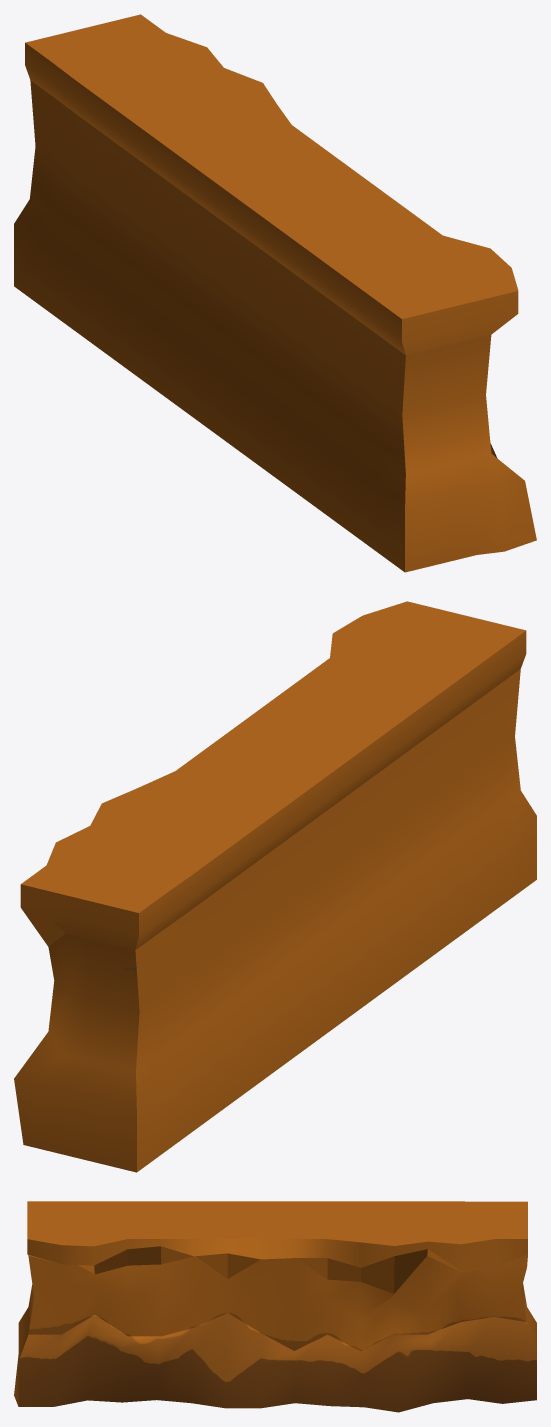
The model's file is Asset_Wall1_Mesh.fbx.
3 renders of one model, top to bottom at view 1: azimuth 30°, elevation 25°; view 2: azimuth 150°, elevation 25°; view 3: azimuth 270°, elevation 25°, orthographic. The views are drawn at different scales.
Visible parts, largest first — view 1: Assset_Wall1_Mesh; view 2: Assset_Wall1_Mesh; view 3: Assset_Wall1_Mesh.
Part boxes in pixels (x1,y1,x2,y2): Assset_Wall1_Mesh: (14,14,536,572); Assset_Wall1_Mesh: (14,601,536,1172); Assset_Wall1_Mesh: (14,1201,536,1412).
Bounding box in the file's own units: 0.0372 × 0.0591 × 0.1706.
